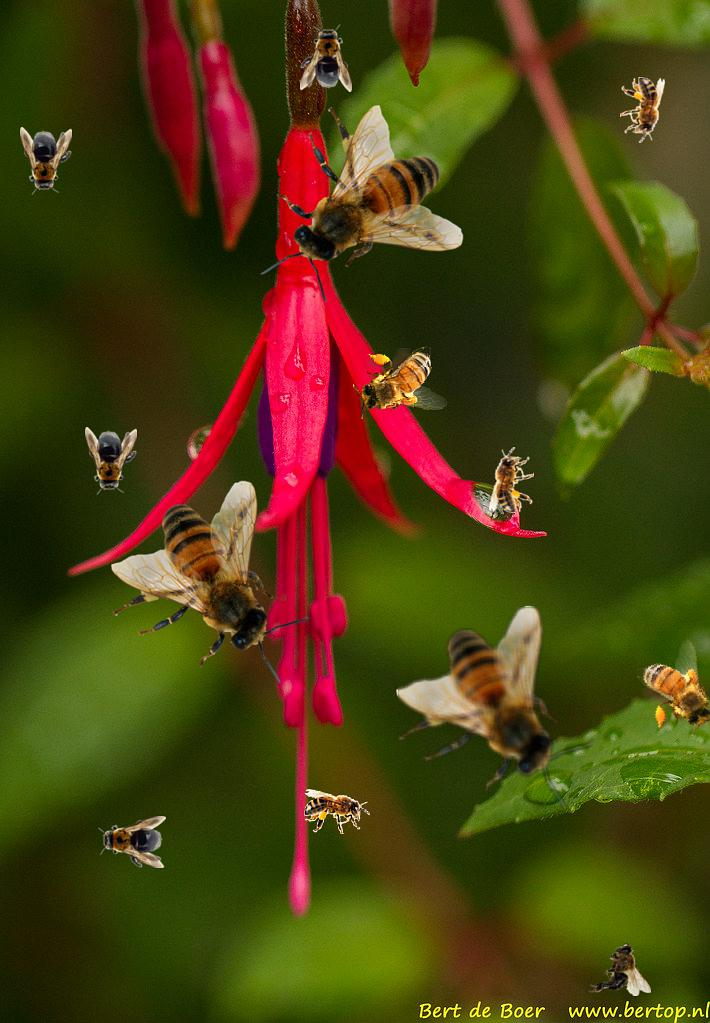Bee: (396, 605, 595, 809), (260, 105, 464, 304), (111, 480, 310, 684), (630, 636, 710, 747), (350, 345, 448, 420), (85, 427, 137, 495), (20, 127, 72, 195), (98, 816, 166, 868), (300, 24, 352, 92), (589, 943, 651, 996), (620, 77, 665, 143), (489, 447, 534, 513), (304, 789, 370, 834)
